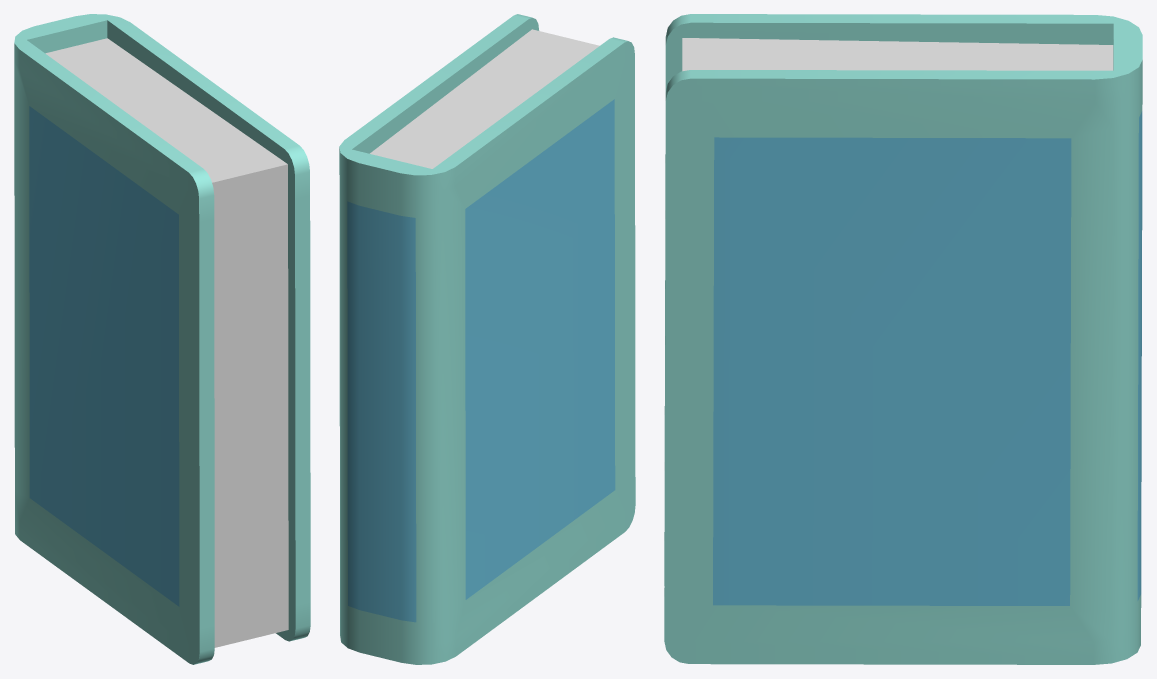
File: Book_02.glb
3 views of the same model, side by side, from view 1: azimuth 30°, elevation 25°; view 2: azimuth 150°, elevation 25°; view 3: azimuth 270°, elevation 25° (orthographic). The views are drawn at different scales.
Parts seen in each view (by area): view 1: book19; view 2: book19; view 3: book19.
Boxes of the visible parts, x1,y1,x2,y2 form: book19: (14, 14, 310, 664); book19: (339, 14, 635, 664); book19: (664, 14, 1142, 664).
Size of the model in its own units: 0.1059 by 0.4481 by 0.3312.
